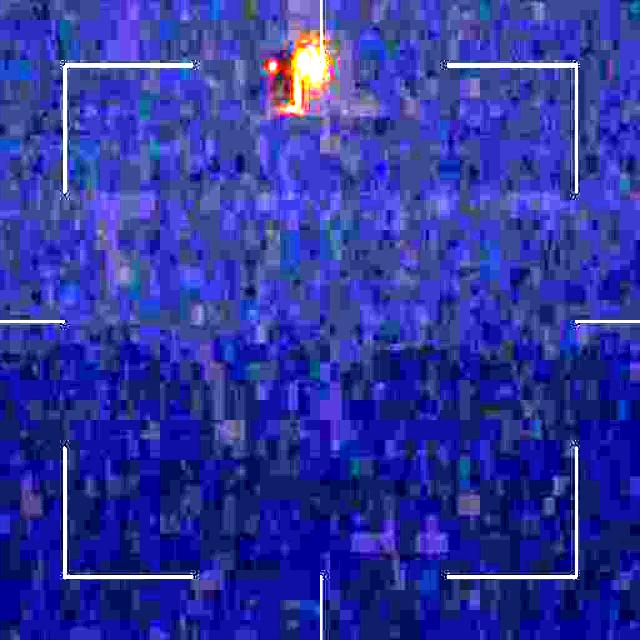bird: (252, 36, 325, 119)
